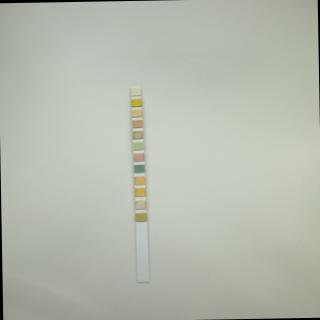mark: (136, 212, 146, 222), (134, 176, 145, 185), (135, 200, 146, 209), (132, 142, 143, 150), (134, 188, 145, 196), (132, 120, 142, 128), (132, 131, 142, 139), (134, 153, 144, 161), (132, 98, 141, 106), (130, 88, 140, 95), (134, 165, 144, 172), (132, 109, 140, 117)
